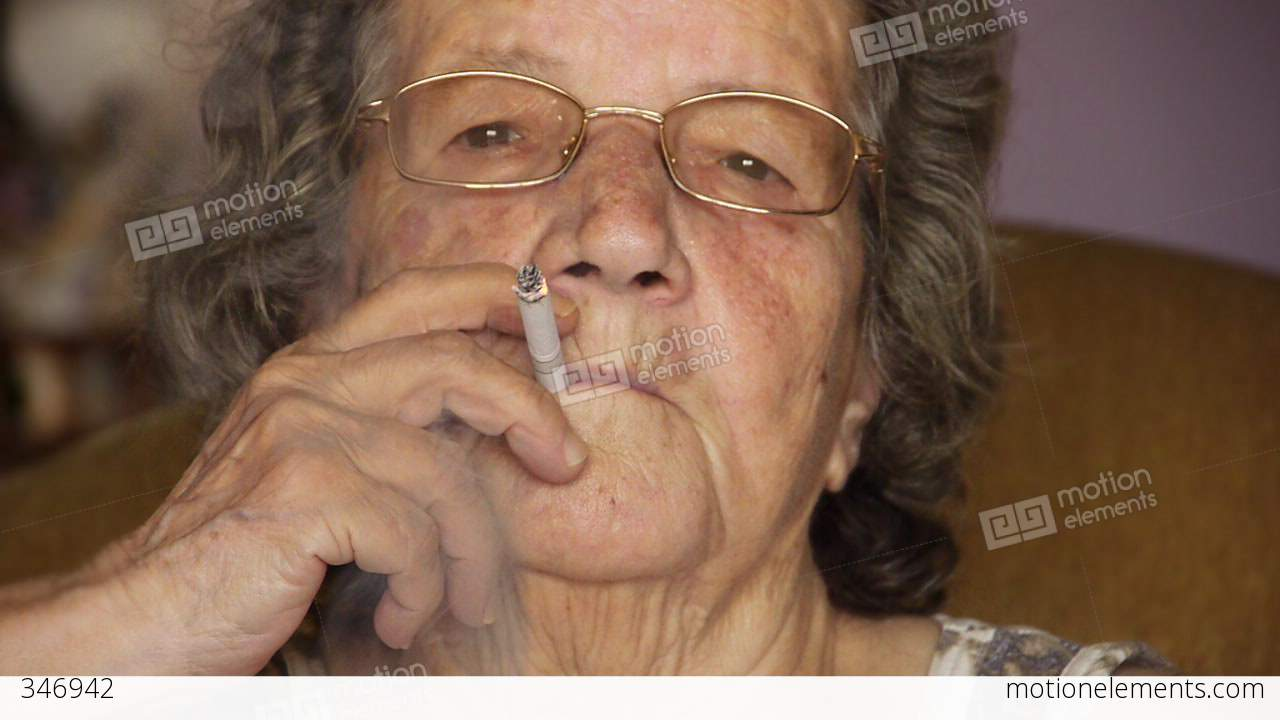cigarette: (512, 259, 565, 416)
